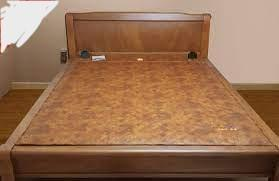Bed-Mattress: (7, 11, 279, 171)
